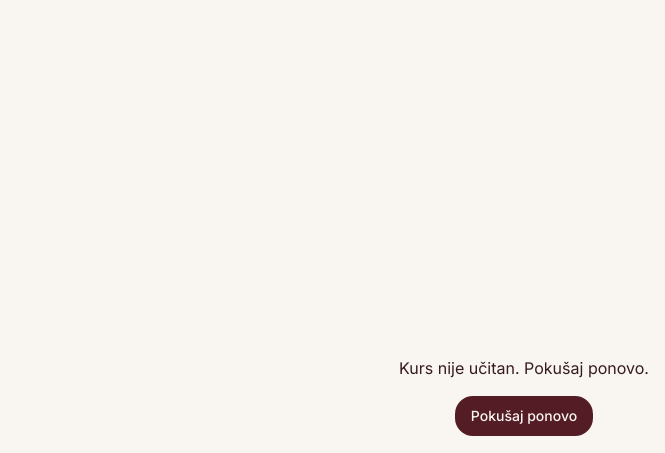
Test: existing healthcare session routing › retries read failures without redirecting to onboarding
Click the button "Pokušaj ponovo" at (524, 416), box [455,396,593,436]
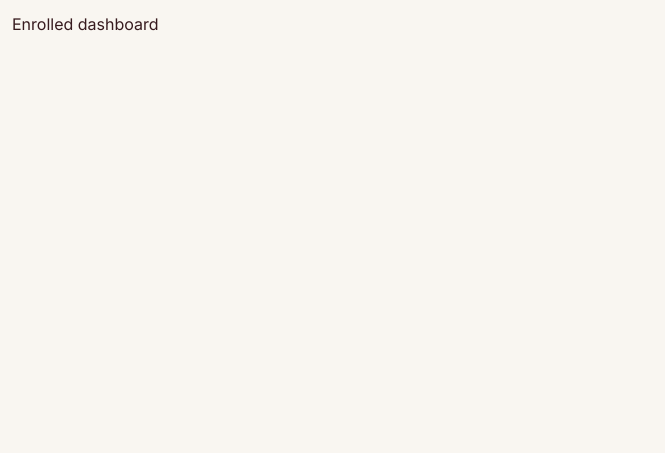
Expected: the text "Enrolled dashboard" is shown, [12,14,159,34]
